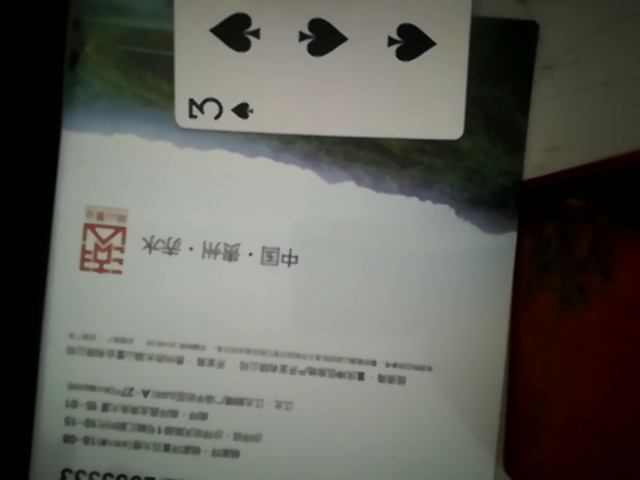ht 3: (171, 3, 464, 145)
